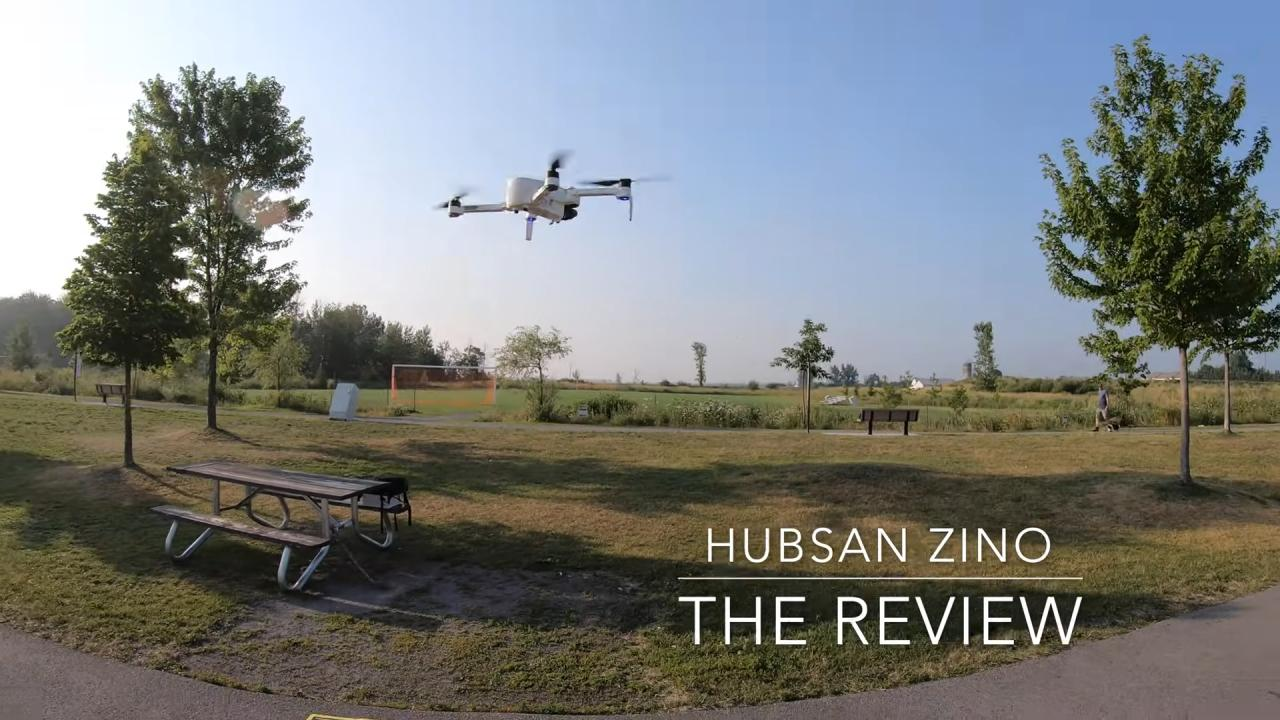Drone: (408, 134, 691, 250)
